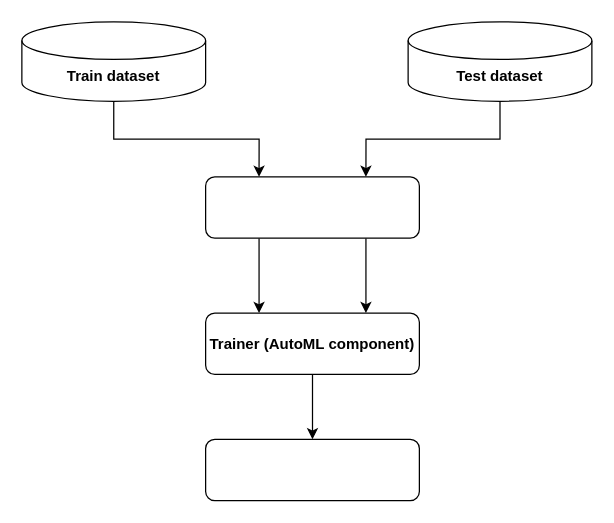
Some shapes in this 614 by 523 pixel diagram are drawn without their labels. Here are the shapes that lost their labels. From the top down, the box of each, then its label:
(204, 176, 419, 238): Data ingestion
(204, 438, 419, 501): Evaluator
